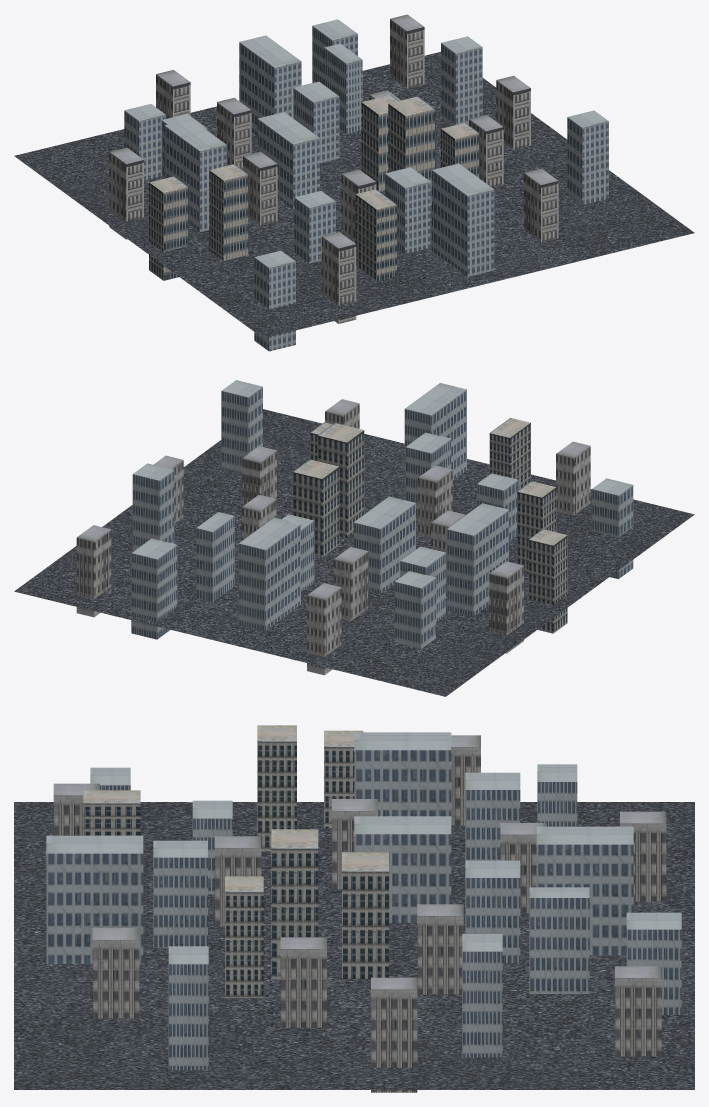
File: BackGround_Building.fbx
3 views of the same model, one above another, from view 1: azimuth 30°, elevation 25°; view 2: azimuth 150°, elevation 25°; view 3: azimuth 270°, elevation 25° (orthographic). The views are drawn at different scales.
Visible parts, largest first — view 1: Plane; view 2: Plane; view 3: Plane.
Boxes of the visible parts, <box> form: Plane: <box>14,14,694,351</box>; Plane: <box>14,380,694,696</box>; Plane: <box>14,725,694,1092</box>.
Size of the model in its own units: 1861 by 566 by 1861.
